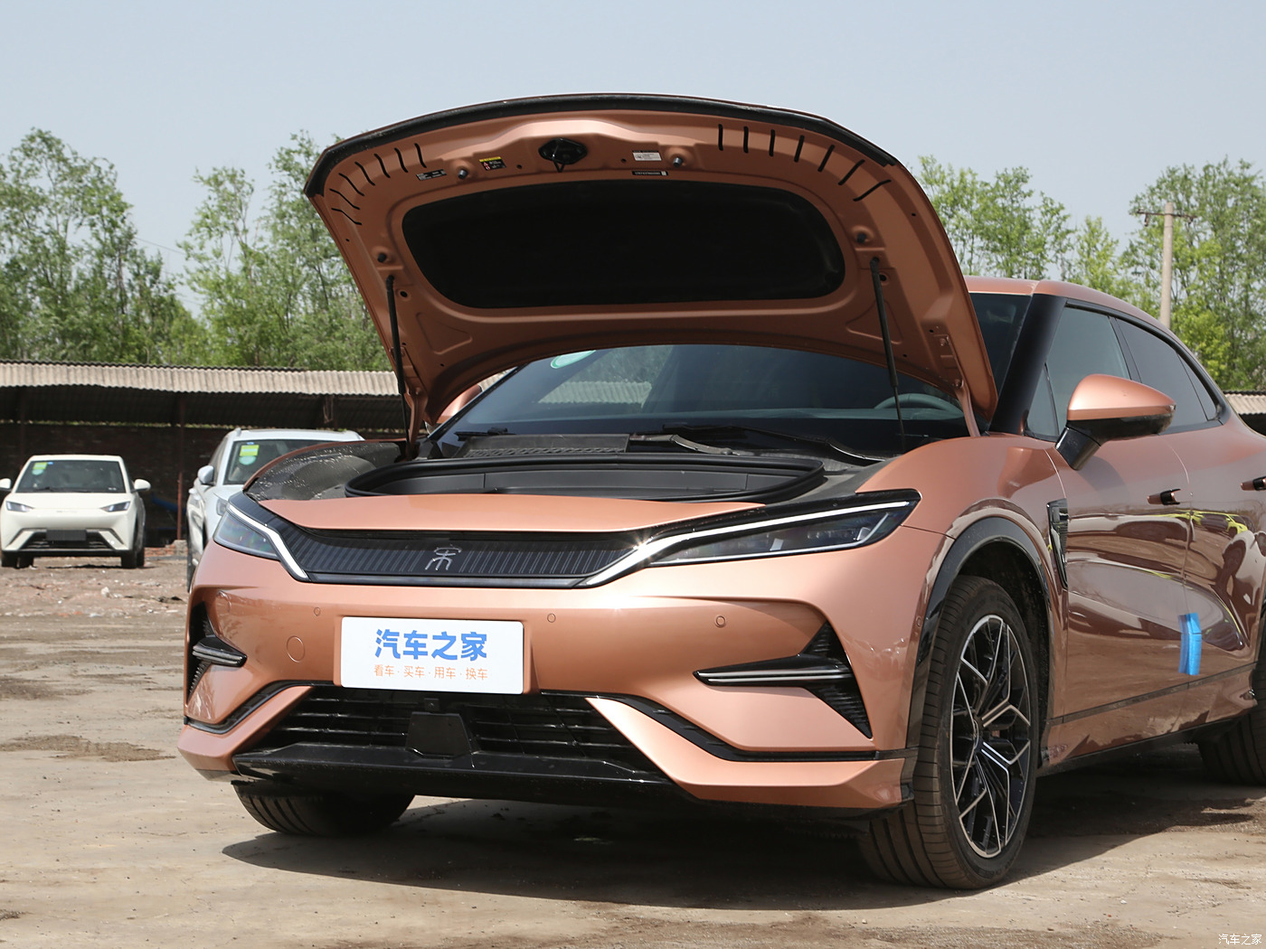BYD Song: (425, 544, 461, 570)
